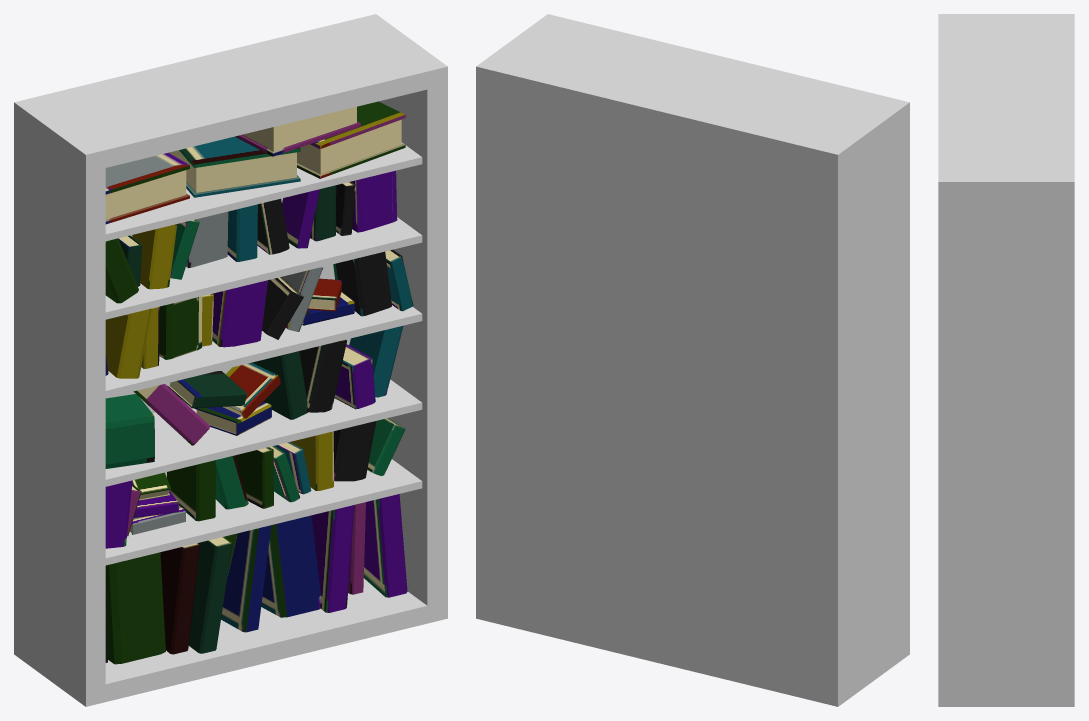
File: Book_Shelf_3.fbx
3 views of the same model, side by side, from view 1: azimuth 30°, elevation 25°; view 2: azimuth 150°, elevation 25°; view 3: azimuth 270°, elevation 25° (orthographic). The views are drawn at different scales.
Parts seen in each view (by area): view 1: Book_Case.002, Book.002; view 2: Book_Case.002; view 3: Book_Case.002.
Part boxes in pixels (x1,y1,x2,y2): Book_Case.002: [14, 14, 447, 706]; Book.002: [105, 101, 413, 664]; Book_Case.002: [476, 14, 909, 706]; Book_Case.002: [938, 14, 1074, 706].
Size of the model in its own units: 172 by 251 by 59.19.
